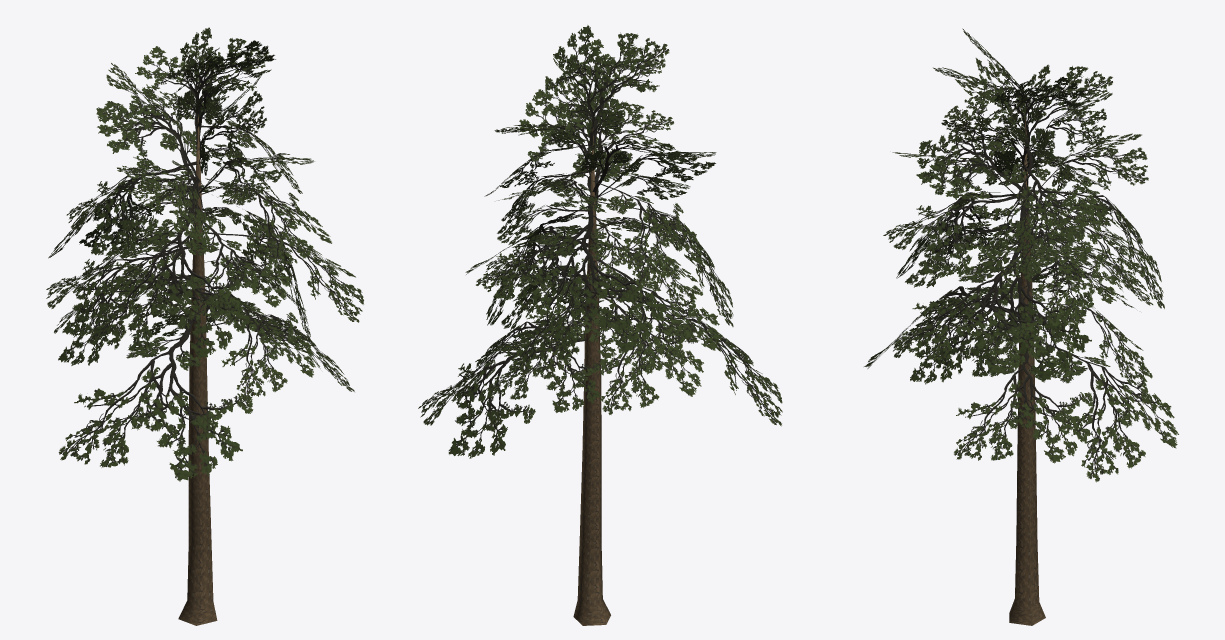
Rendered from Pine01.fbx.
3 renders of one model, left to right at view 1: azimuth 30°, elevation 25°; view 2: azimuth 150°, elevation 25°; view 3: azimuth 270°, elevation 25°, orthographic. The views are drawn at different scales.
Visible parts, largest first — view 1: Pine01; view 2: Pine01; view 3: Pine01.
Part boxes in pixels (left/top/right/bottom): Pine01: left=46, top=27, right=363, bottom=625; Pine01: left=418, top=25, right=782, bottom=625; Pine01: left=864, top=28, right=1178, bottom=625.
Bounding box in the file's own units: 1750 × 2799 × 1685.
